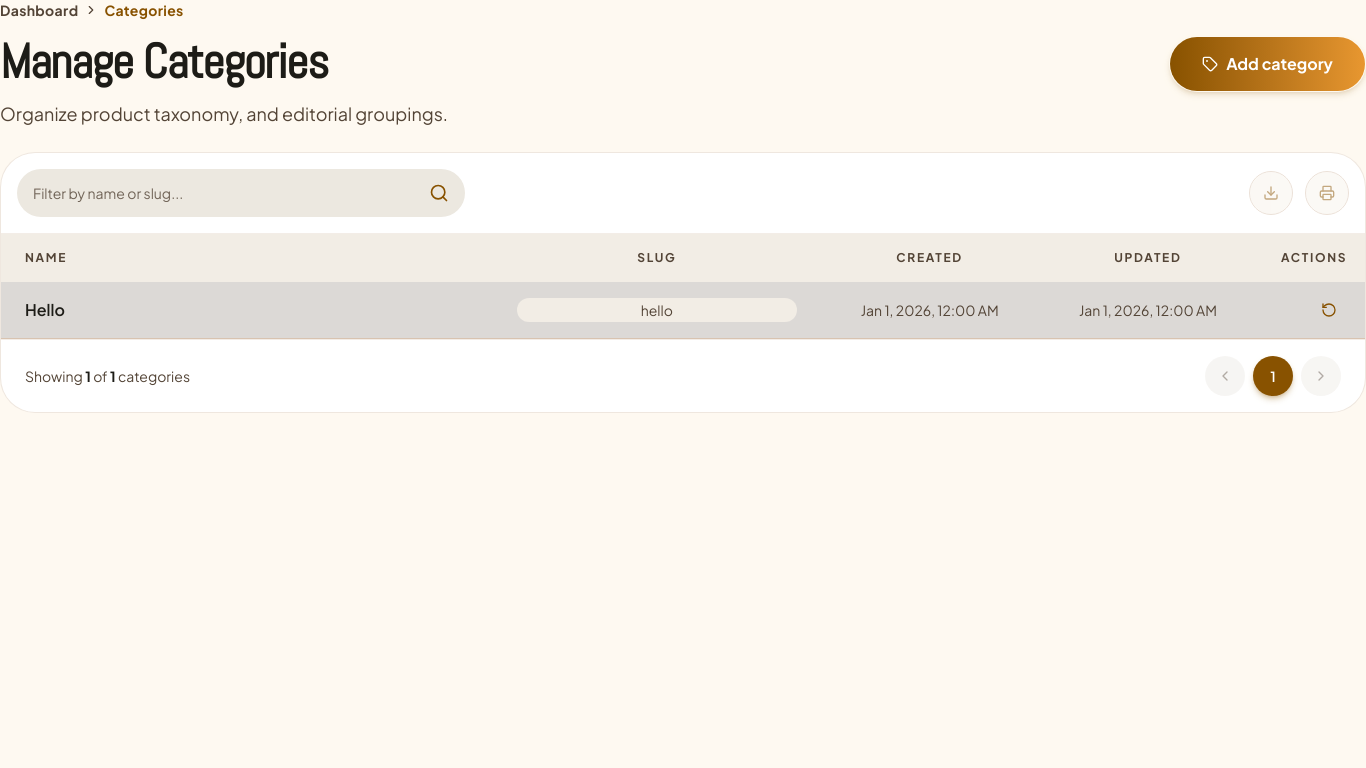
Test: Categories PageContent › restore › closes the restore dialog and toasts on success
The width and height of the screenshot is (1366, 768).
Click the button named "restore hello". click: (1329, 310)
box: [1317,298,1341,322]
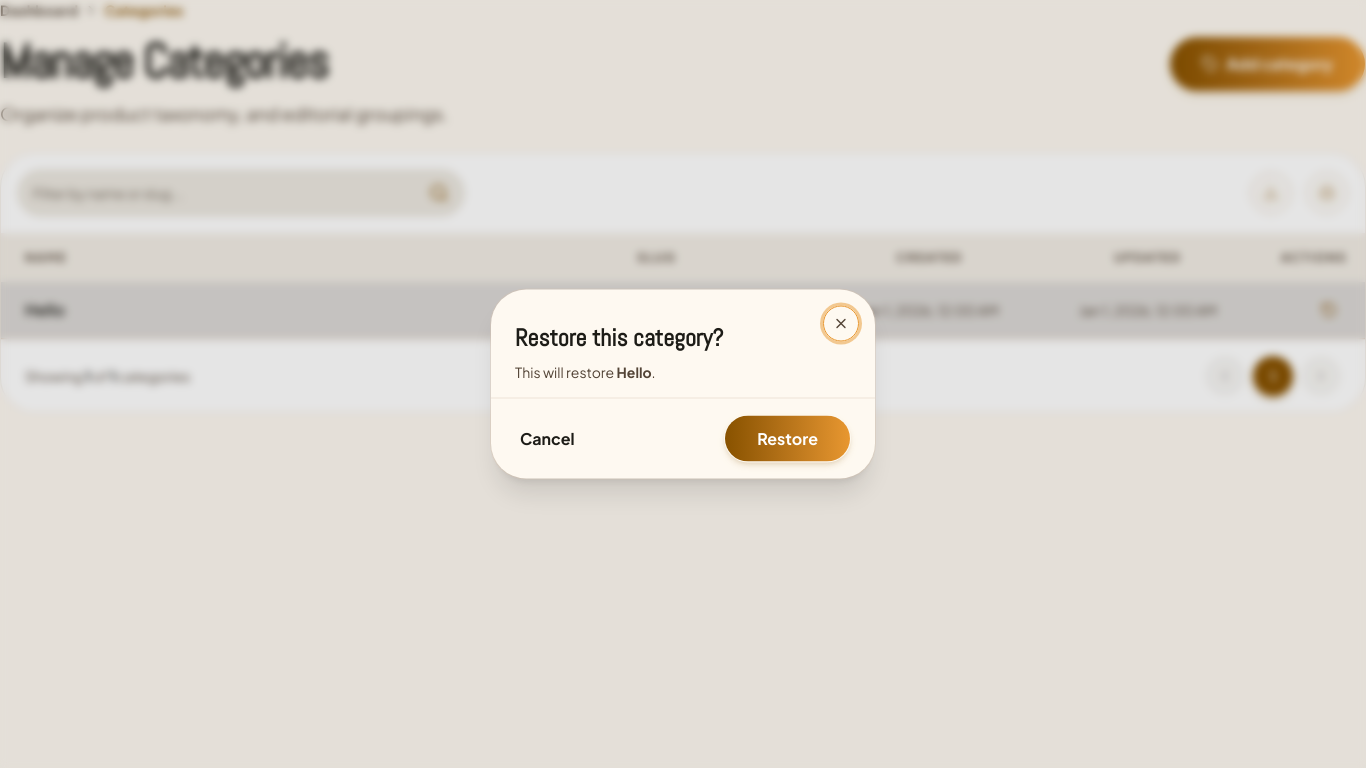
Expected: the heading "Restore this category?" is shown, [515,322,723,354]
Click the button "Restore". click: (788, 438)
box: [724,414,851,462]
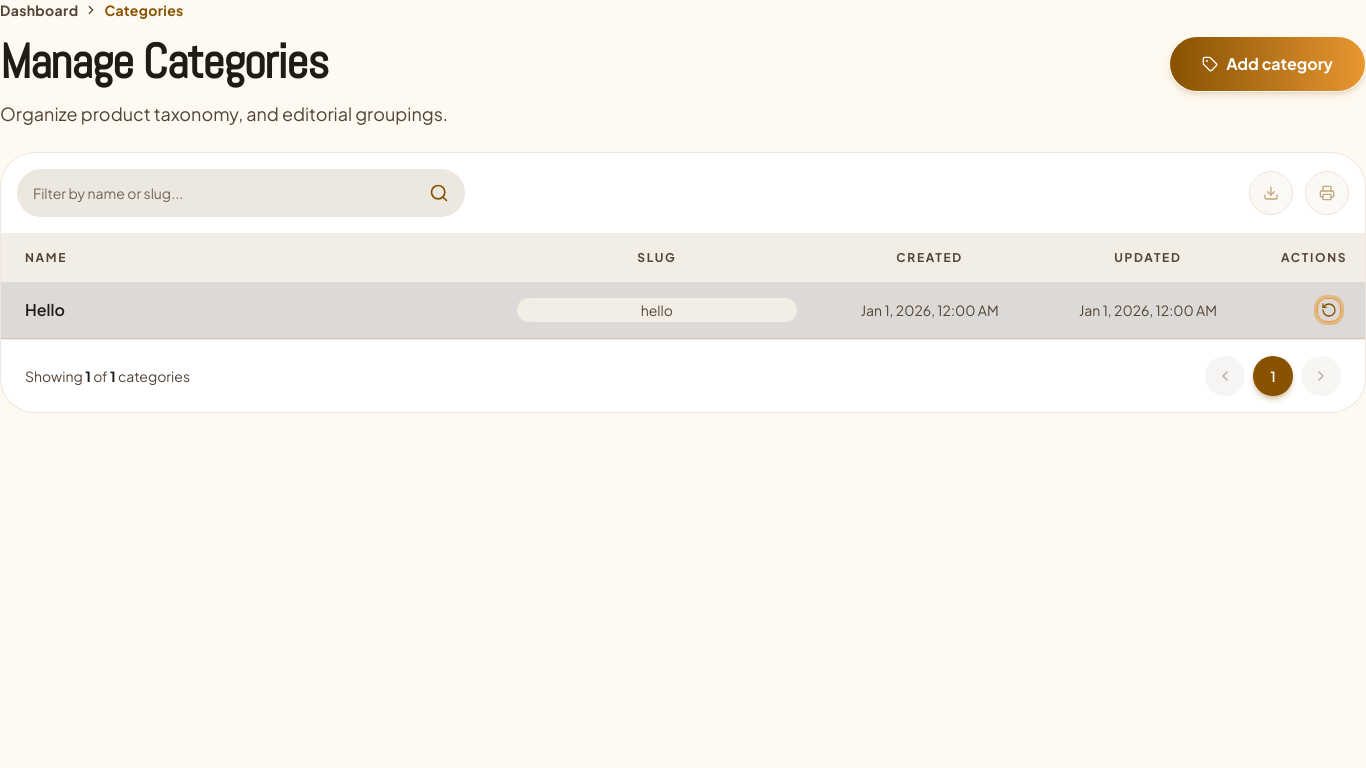
Expected: the heading "Restore this category?" is gone
